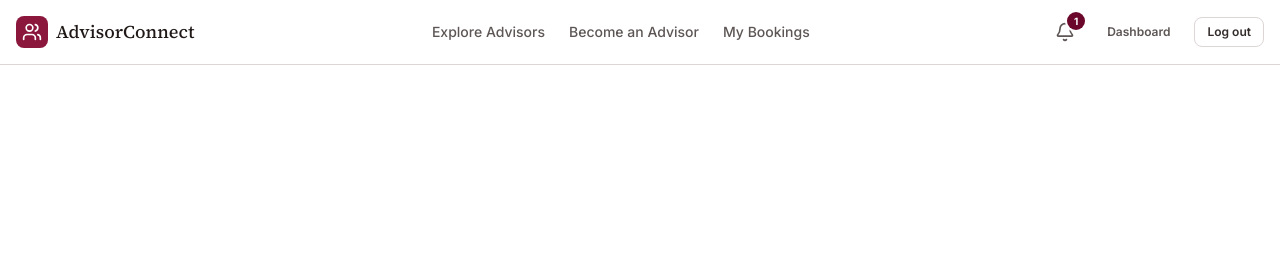
Test: Navbar › dismissing the dropdown › closes on Escape
Click the button named "notifications" at (1065, 32), box [1047,14,1083,50]
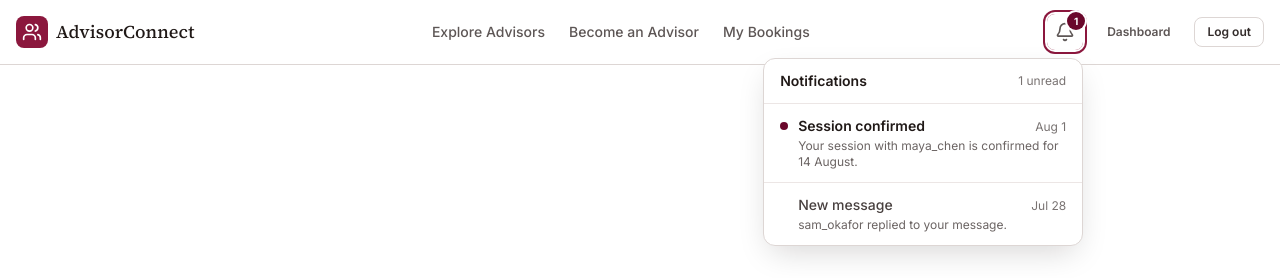
Check: the menu is shown, box [763,58,1083,246]
Press Escape
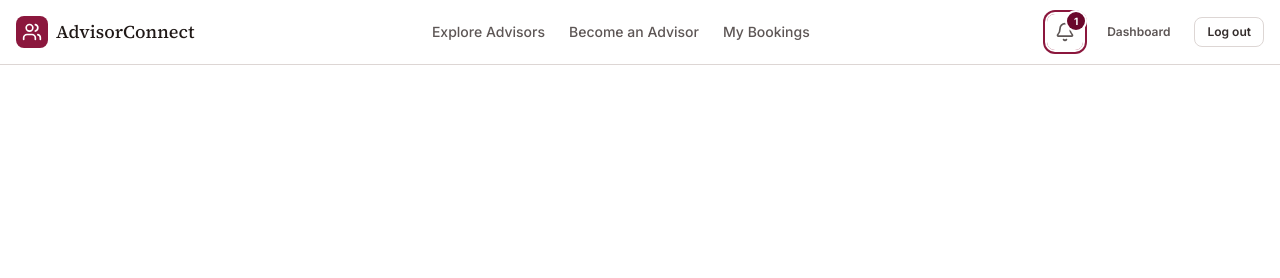
Check: the menu is gone
